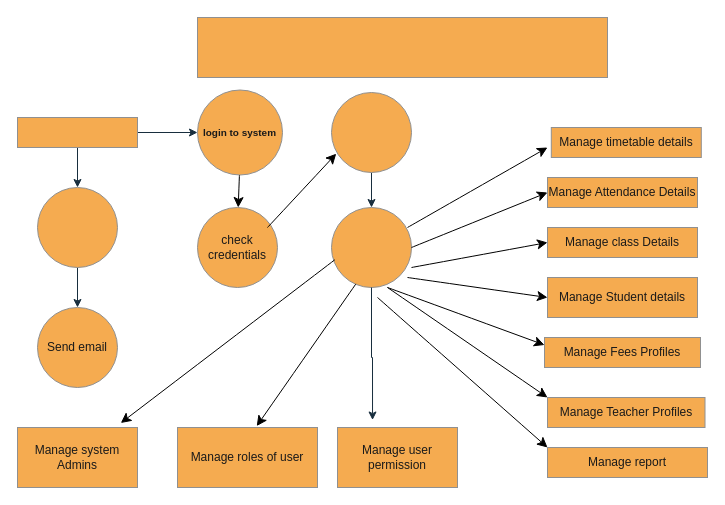
Some shapes in this 725 by 505 pixel diagram are drawn without their labels. The shapes that lost their labels are listed below. From the top down, each one's centre as x and y in pixels, then its label:
At point (402, 47): "Student Information systenm".
At point (77, 132): "Admin".
At point (371, 132): "check notes of access".
At point (77, 227): "forgot password".
At point (371, 247): "Manage Modules".
